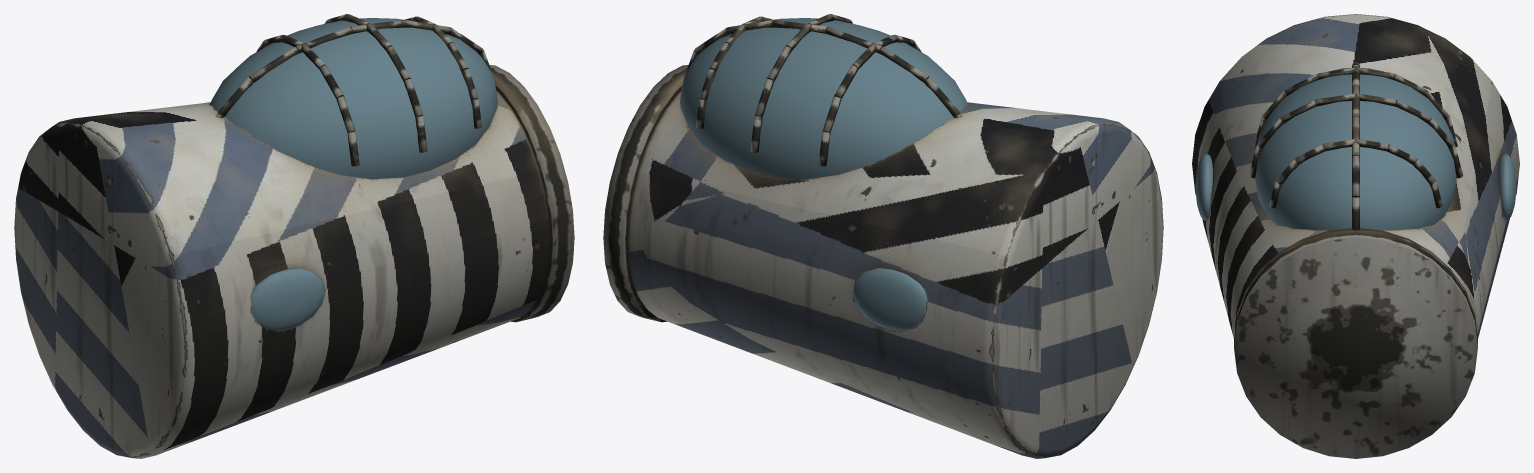
File: turret_kit_tail_cabin_dazzle.glb
3 renders of one model, left to right at view 1: azimuth 30°, elevation 25°; view 2: azimuth 150°, elevation 25°; view 3: azimuth 270°, elevation 25°, orthographic. The views are drawn at different scales.
Parts seen in each view (by area): view 1: turret_tail_cabin; view 2: turret_tail_cabin; view 3: turret_tail_cabin.
Boxes of the visible parts, left/top/right/bottom form: turret_tail_cabin: left=14, top=14, right=574, bottom=458; turret_tail_cabin: left=603, top=14, right=1163, bottom=458; turret_tail_cabin: left=1192, top=14, right=1519, bottom=458.
Size of the model in its own units: 1.14 by 0.9506 by 0.8335.
Materials: 2 (1 with a texture image).
